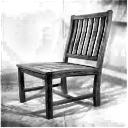chair_success: (6, 6, 116, 122)
